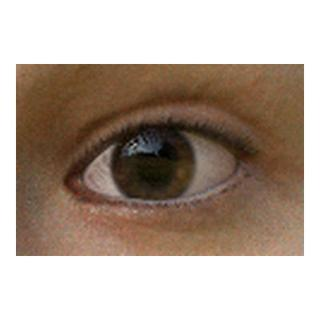pupil: (136, 148, 171, 182)
